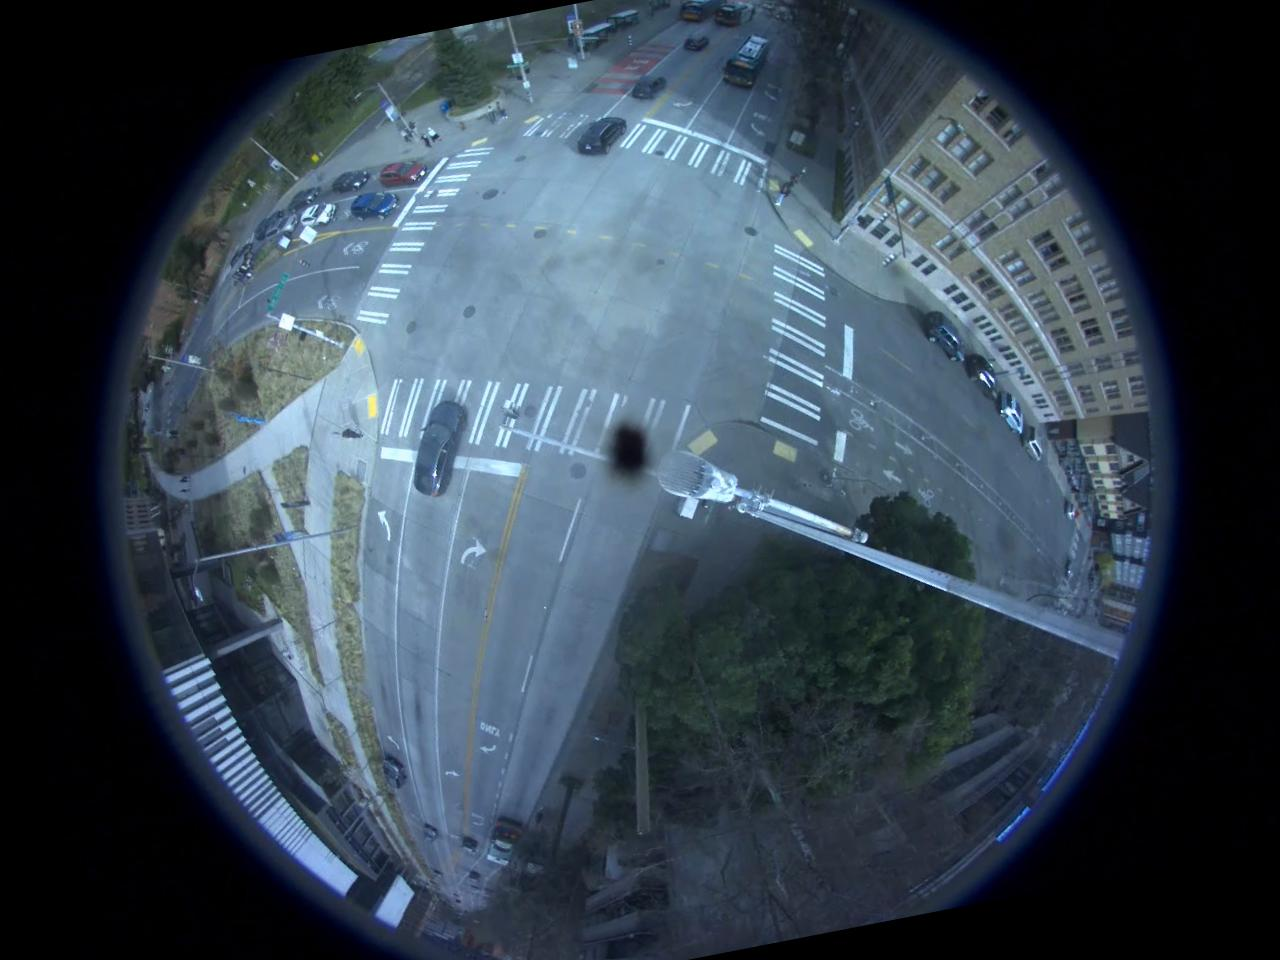bus: (718, 36, 772, 90), (477, 814, 529, 870), (714, 0, 755, 31), (677, 0, 729, 23)
car: (392, 391, 482, 507), (574, 116, 631, 156), (926, 308, 966, 365), (965, 349, 1004, 398), (378, 156, 426, 190), (256, 212, 302, 246), (349, 188, 396, 220), (278, 183, 324, 213), (378, 746, 408, 792), (995, 392, 1025, 434), (296, 200, 338, 229), (631, 72, 670, 100), (1019, 425, 1043, 464), (332, 167, 372, 189), (682, 28, 708, 55)
person: (766, 180, 792, 210), (332, 423, 365, 446), (403, 115, 421, 142), (492, 95, 511, 120), (784, 169, 803, 194), (424, 122, 441, 149), (480, 102, 496, 128), (418, 132, 432, 158), (398, 125, 412, 148)
